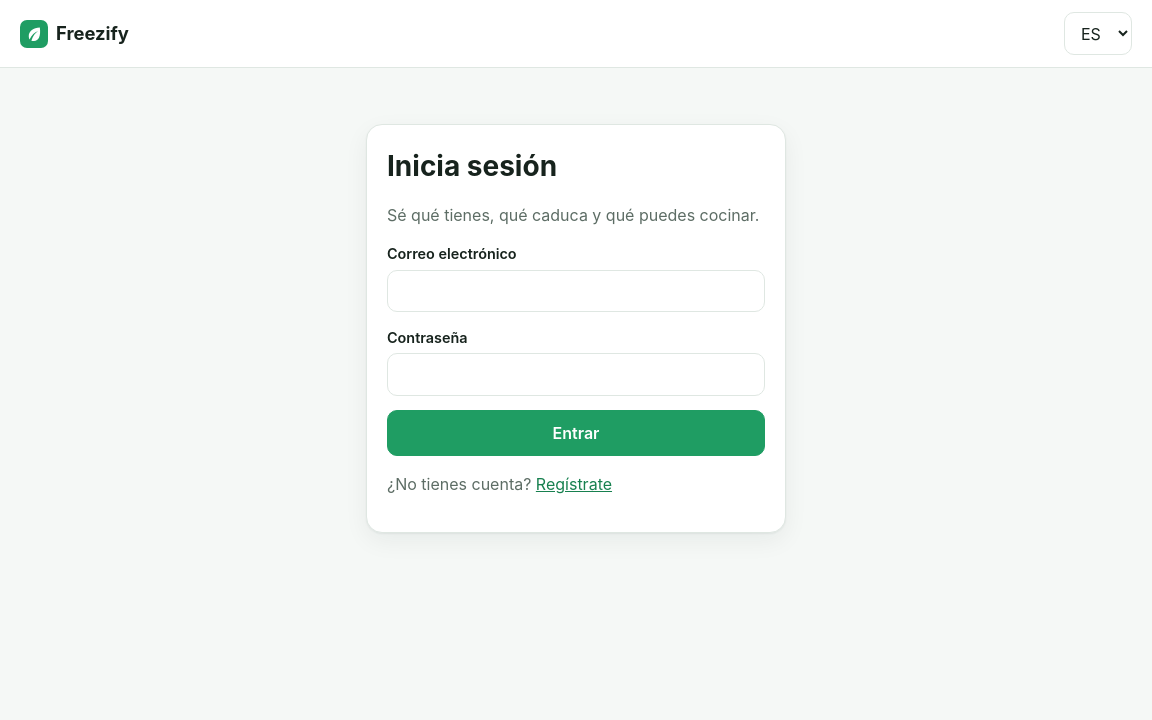
authentication › switches language
Select "EN" in the dropdown named "Idioma" at {"x": 1098, "y": 34}, box 1064,12 -> 1132,55
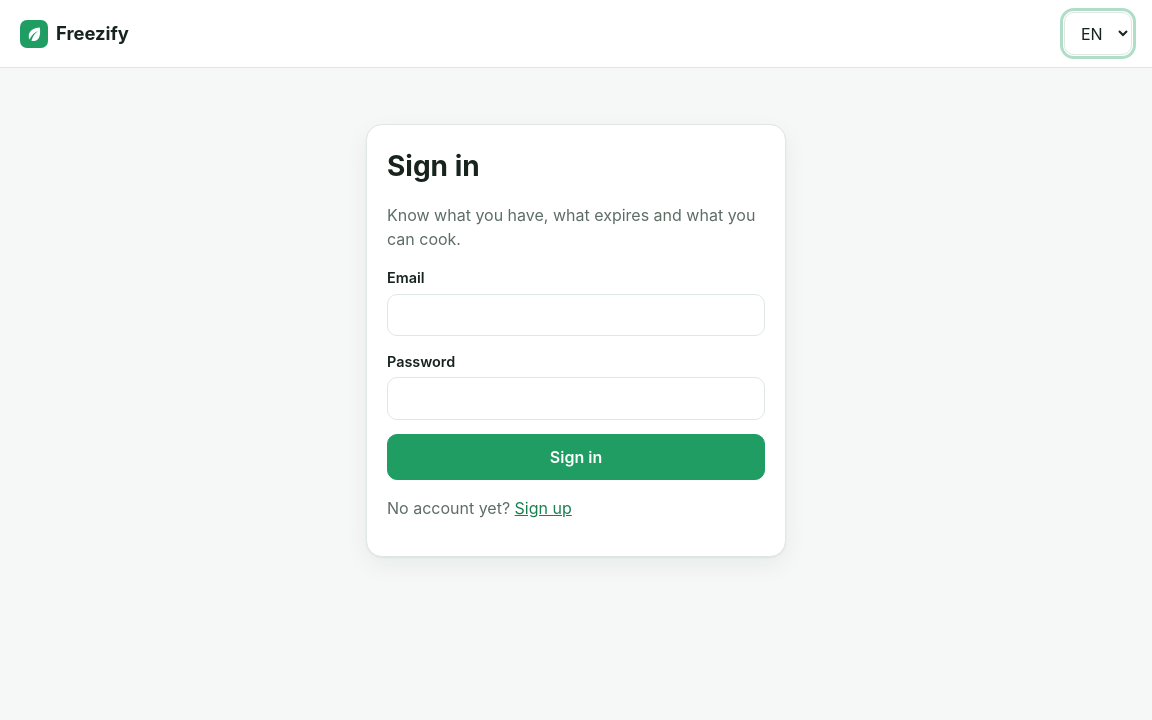
Check: the heading "Sign in" is shown, box 387,149 -> 480,183
